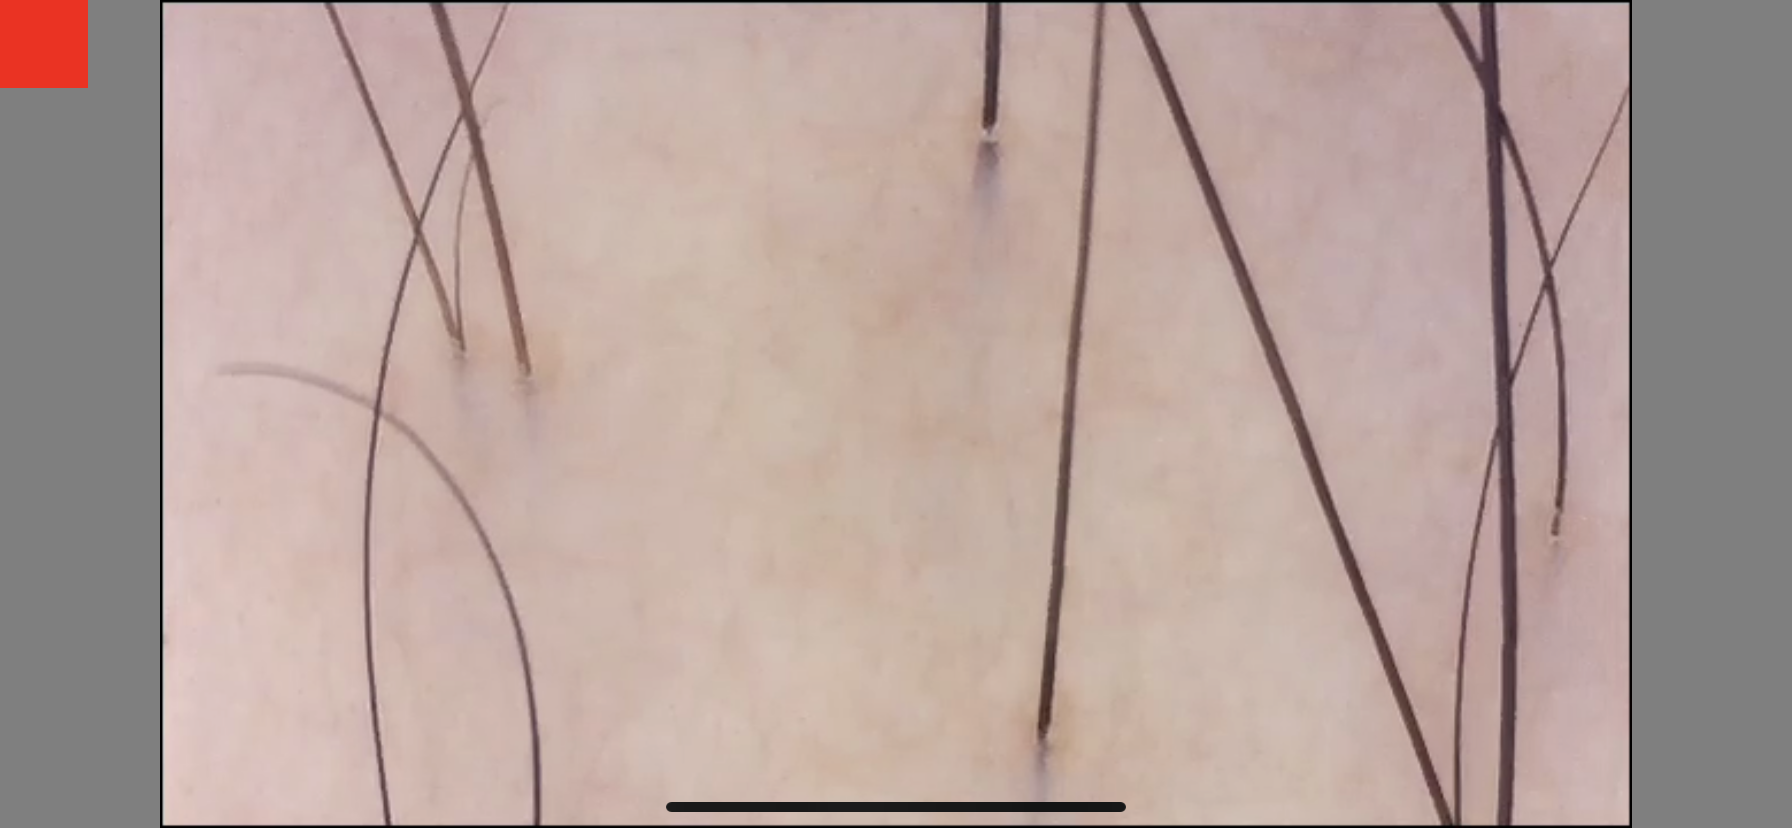TRUE: (189, 341, 261, 407), (960, 114, 1020, 171), (428, 322, 484, 373), (1014, 716, 1071, 766), (496, 350, 551, 397), (1530, 507, 1582, 556)
